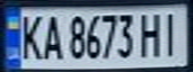3: (115, 11, 139, 58)
6: (84, 11, 103, 60)
7: (100, 11, 121, 60)
8: (63, 11, 87, 61)
A: (39, 11, 63, 61)
H: (136, 10, 166, 57)
I: (157, 9, 184, 56)
K: (15, 11, 45, 61)
